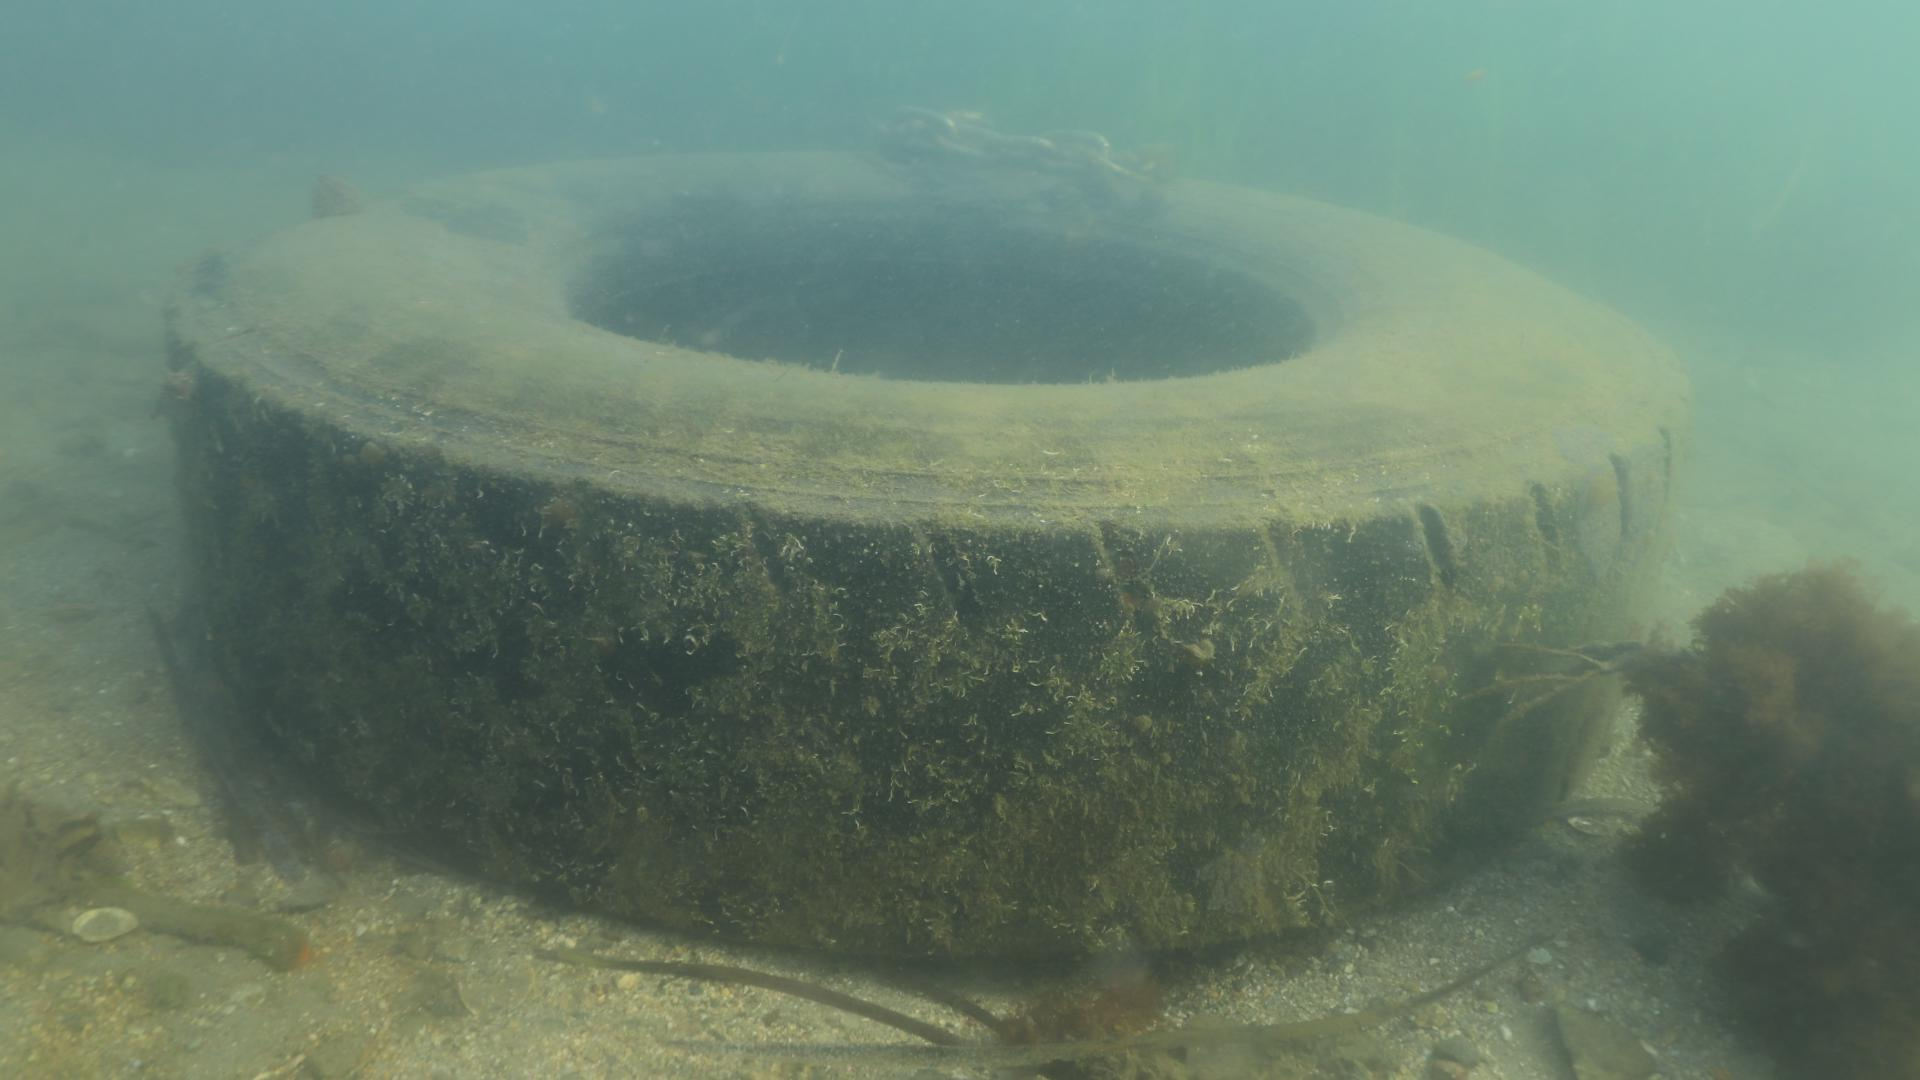tire: (175, 146, 1693, 967)
